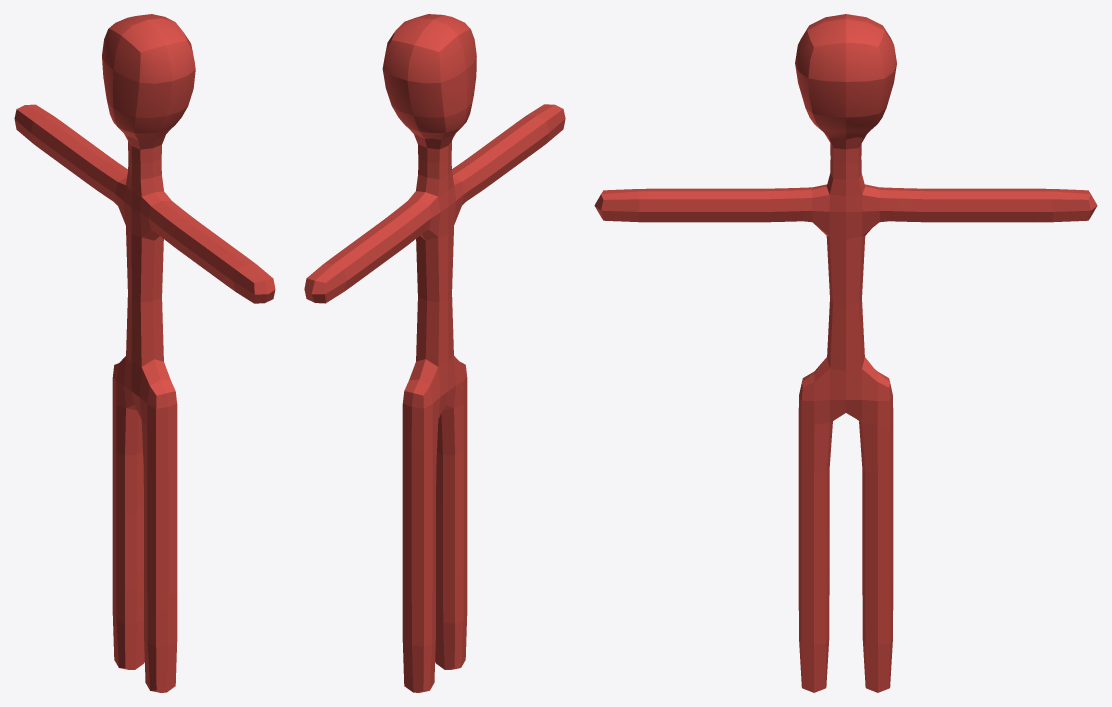
The model's file is stickman.fbx.
3 renders of one model, left to right at view 1: azimuth 30°, elevation 25°; view 2: azimuth 150°, elevation 25°; view 3: azimuth 270°, elevation 25°, orthographic. The views are drawn at different scales.
Parts seen in each view (by area): view 1: Cube.001; view 2: Cube.001; view 3: Cube.001.
Part boxes in pixels (x1,y1,x2,y2): Cube.001: (14, 14, 275, 692); Cube.001: (304, 14, 565, 692); Cube.001: (594, 14, 1097, 692).
Bounding box in the file's own units: 44.22 × 375 × 254.
